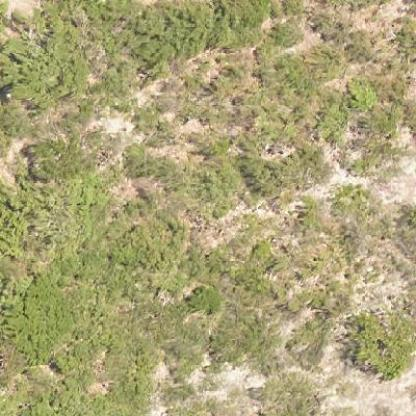tree-top: (122, 1, 272, 55), (350, 306, 411, 378), (28, 127, 95, 182)
